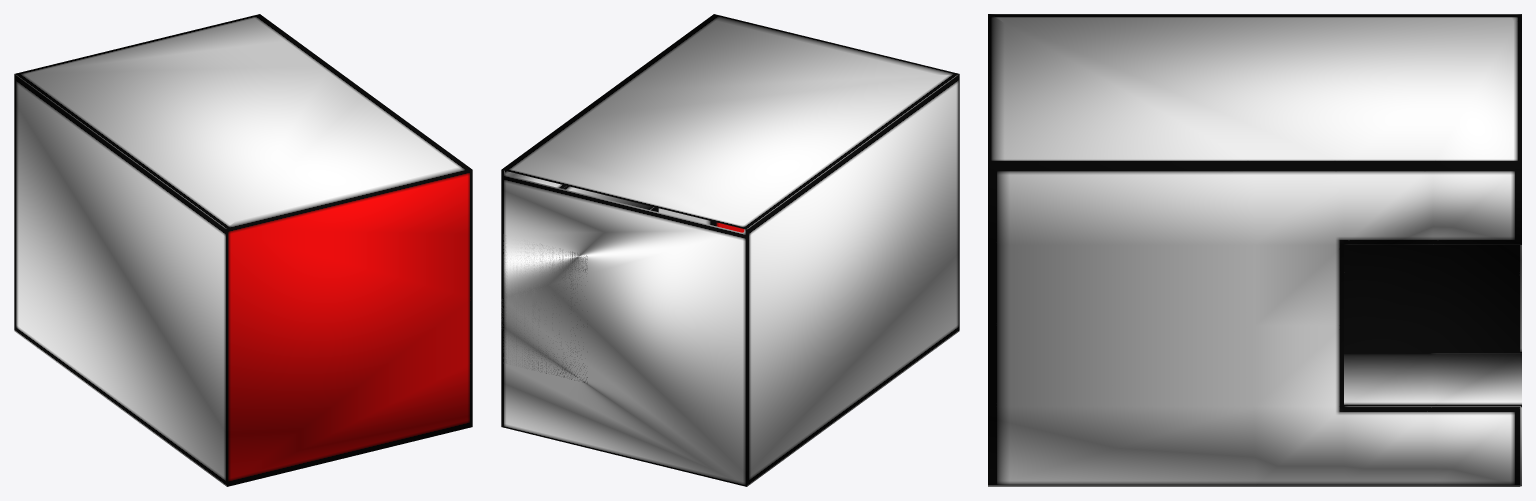
The model's file is school.fbx.
The picture shows the model from 3 angles, left to right: view 1: azimuth 30°, elevation 25°; view 2: azimuth 150°, elevation 25°; view 3: azimuth 270°, elevation 25°; orthographic projection. The views are drawn at different scales.
Parts seen in each view (by area): view 1: Cube; view 2: Cube; view 3: Cube.
Boxes of the visible parts, box(x1,y1,x2,y2) form: Cube: box(14, 14, 472, 486); Cube: box(501, 14, 959, 486); Cube: box(988, 14, 1521, 486).
Bounding box in the file's own units: 2 × 2 × 3.
Materials: 1 (1 with a texture image).
